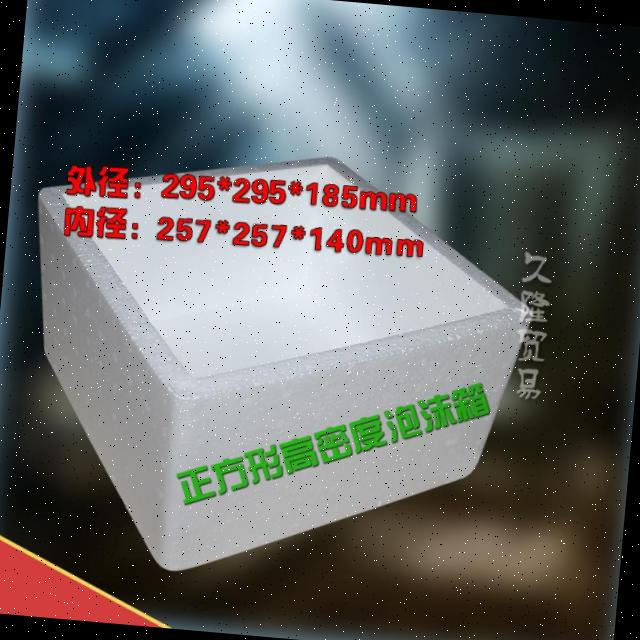styrofoam: (5, 128, 544, 600)
